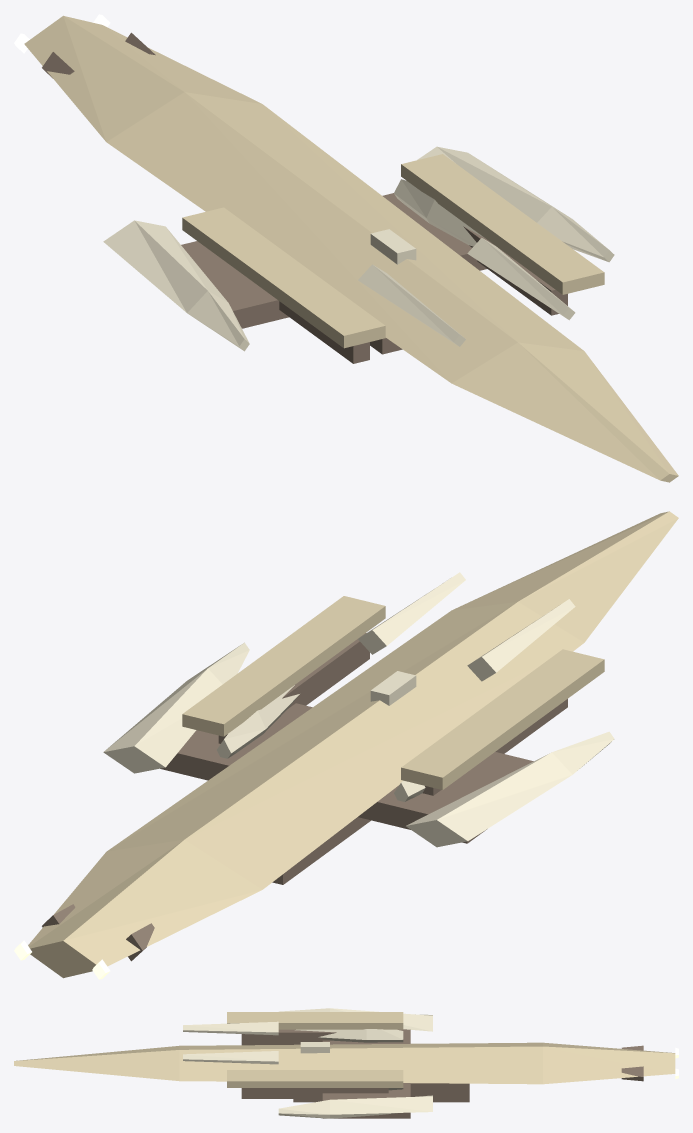
3 renders of one model, top to bottom at view 1: azimuth 30°, elevation 25°; view 2: azimuth 150°, elevation 25°; view 3: azimuth 270°, elevation 25°, orthographic. The views are drawn at different scales.
Size of the model in its own units: 6.81 by 1.78 by 18.64.
